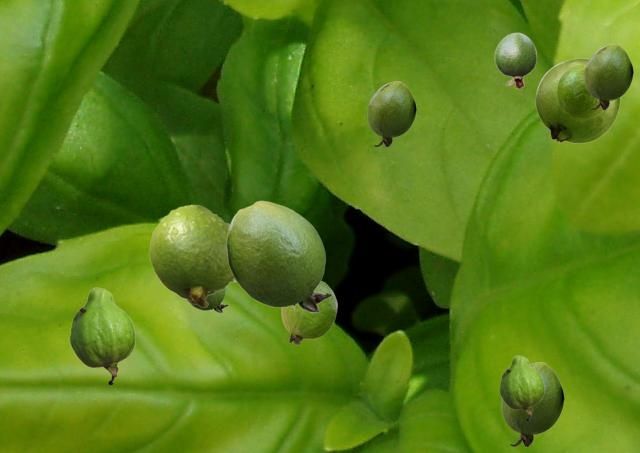guava: (226, 200, 331, 311), (149, 204, 235, 306), (535, 58, 619, 142), (69, 287, 134, 384), (501, 362, 563, 446), (281, 280, 336, 344), (367, 81, 415, 146), (584, 44, 632, 109), (499, 355, 543, 420), (557, 65, 605, 117), (494, 32, 536, 88), (187, 287, 227, 311)
